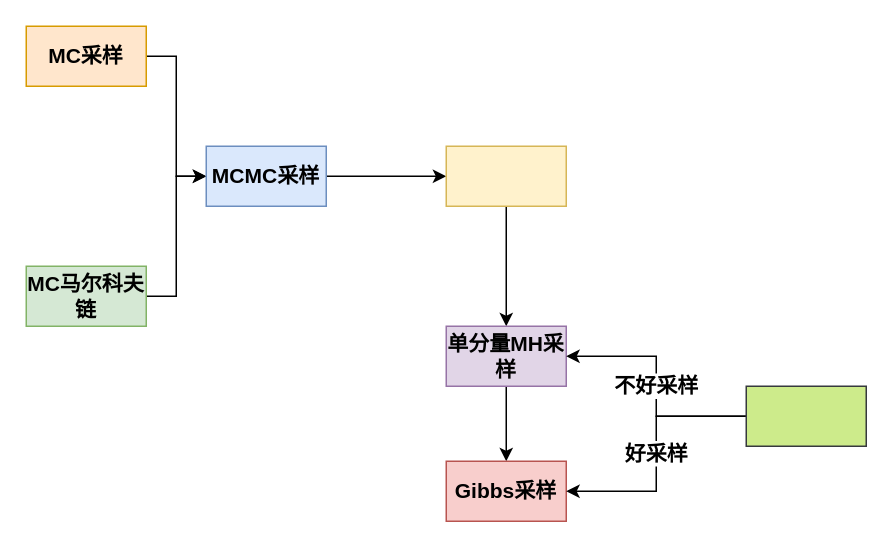
Some shapes in this 893 by 548 pixel diagram are drawn without their labels. Each missing label, with the centre of its shape:
MH采样: the point at 505,175
满条件概率分布: the point at 805,415
